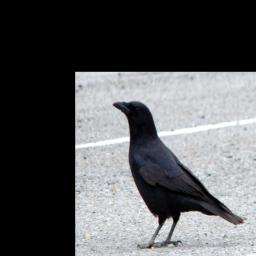Crow: (112, 100, 244, 249)
